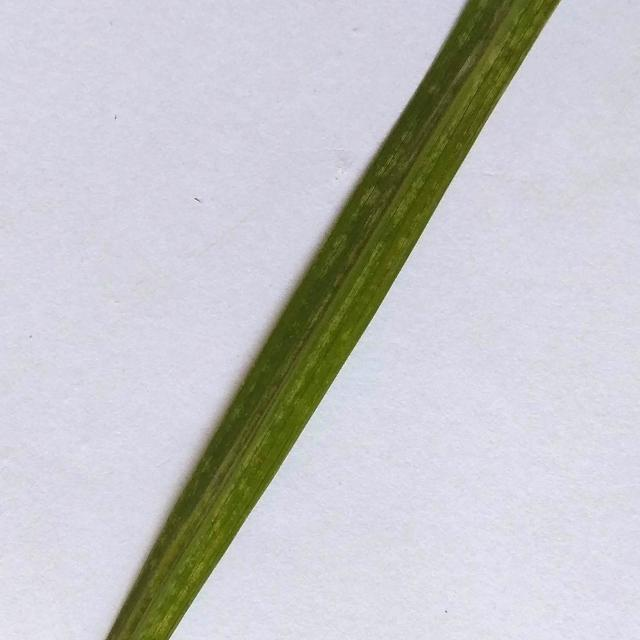Rice_Healthy: (106, 0, 560, 640)
